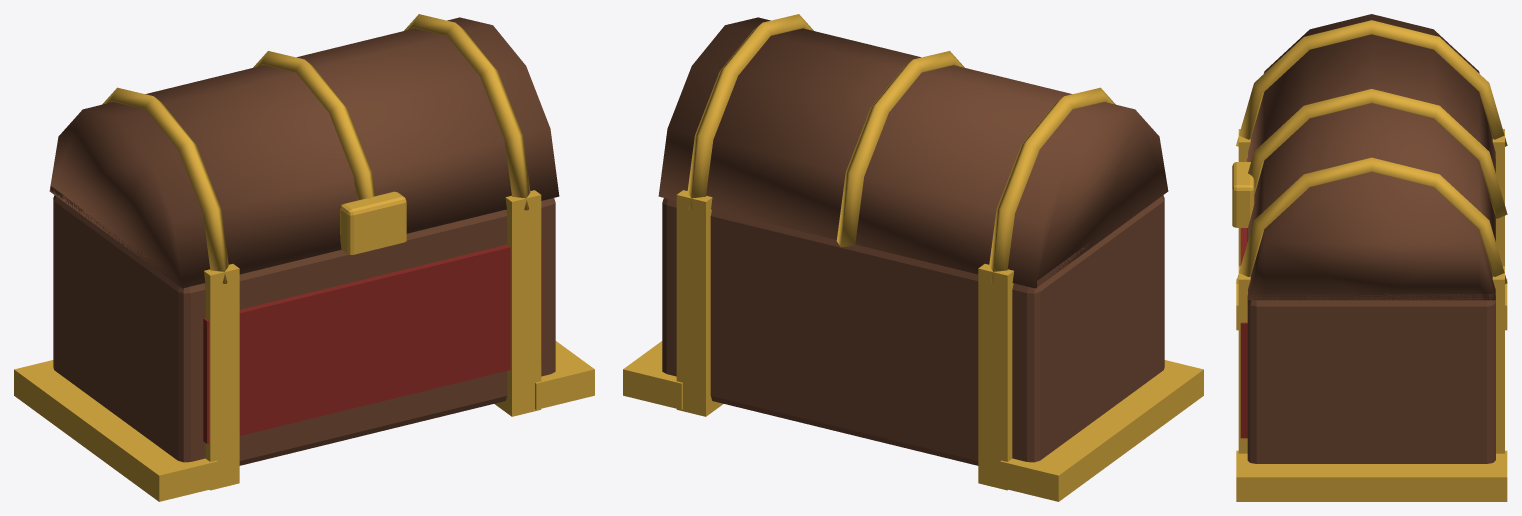
The model's file is peti.glb.
3 views of the same model, side by side, from view 1: azimuth 30°, elevation 25°; view 2: azimuth 150°, elevation 25°; view 3: azimuth 270°, elevation 25° (orthographic). The views are drawn at different scales.
Parts seen in each view (by area): view 1: peti_mesh, lid_mesh; view 2: peti_mesh, lid_mesh; view 3: lid_mesh, peti_mesh.
Boxes of the visible parts, <box> form: peti_mesh: <box>14,190,594,501</box>; lid_mesh: <box>49,14,559,288</box>; peti_mesh: <box>623,190,1203,501</box>; lid_mesh: <box>658,14,1168,288</box>; lid_mesh: <box>1232,14,1507,300</box>; peti_mesh: <box>1236,129,1507,501</box>.
Size of the model in its own units: 1.04 by 0.772 by 0.6096.
